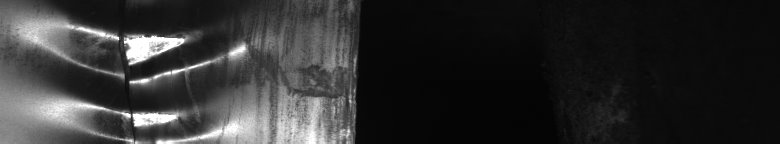ke: (28, 12, 344, 136)
